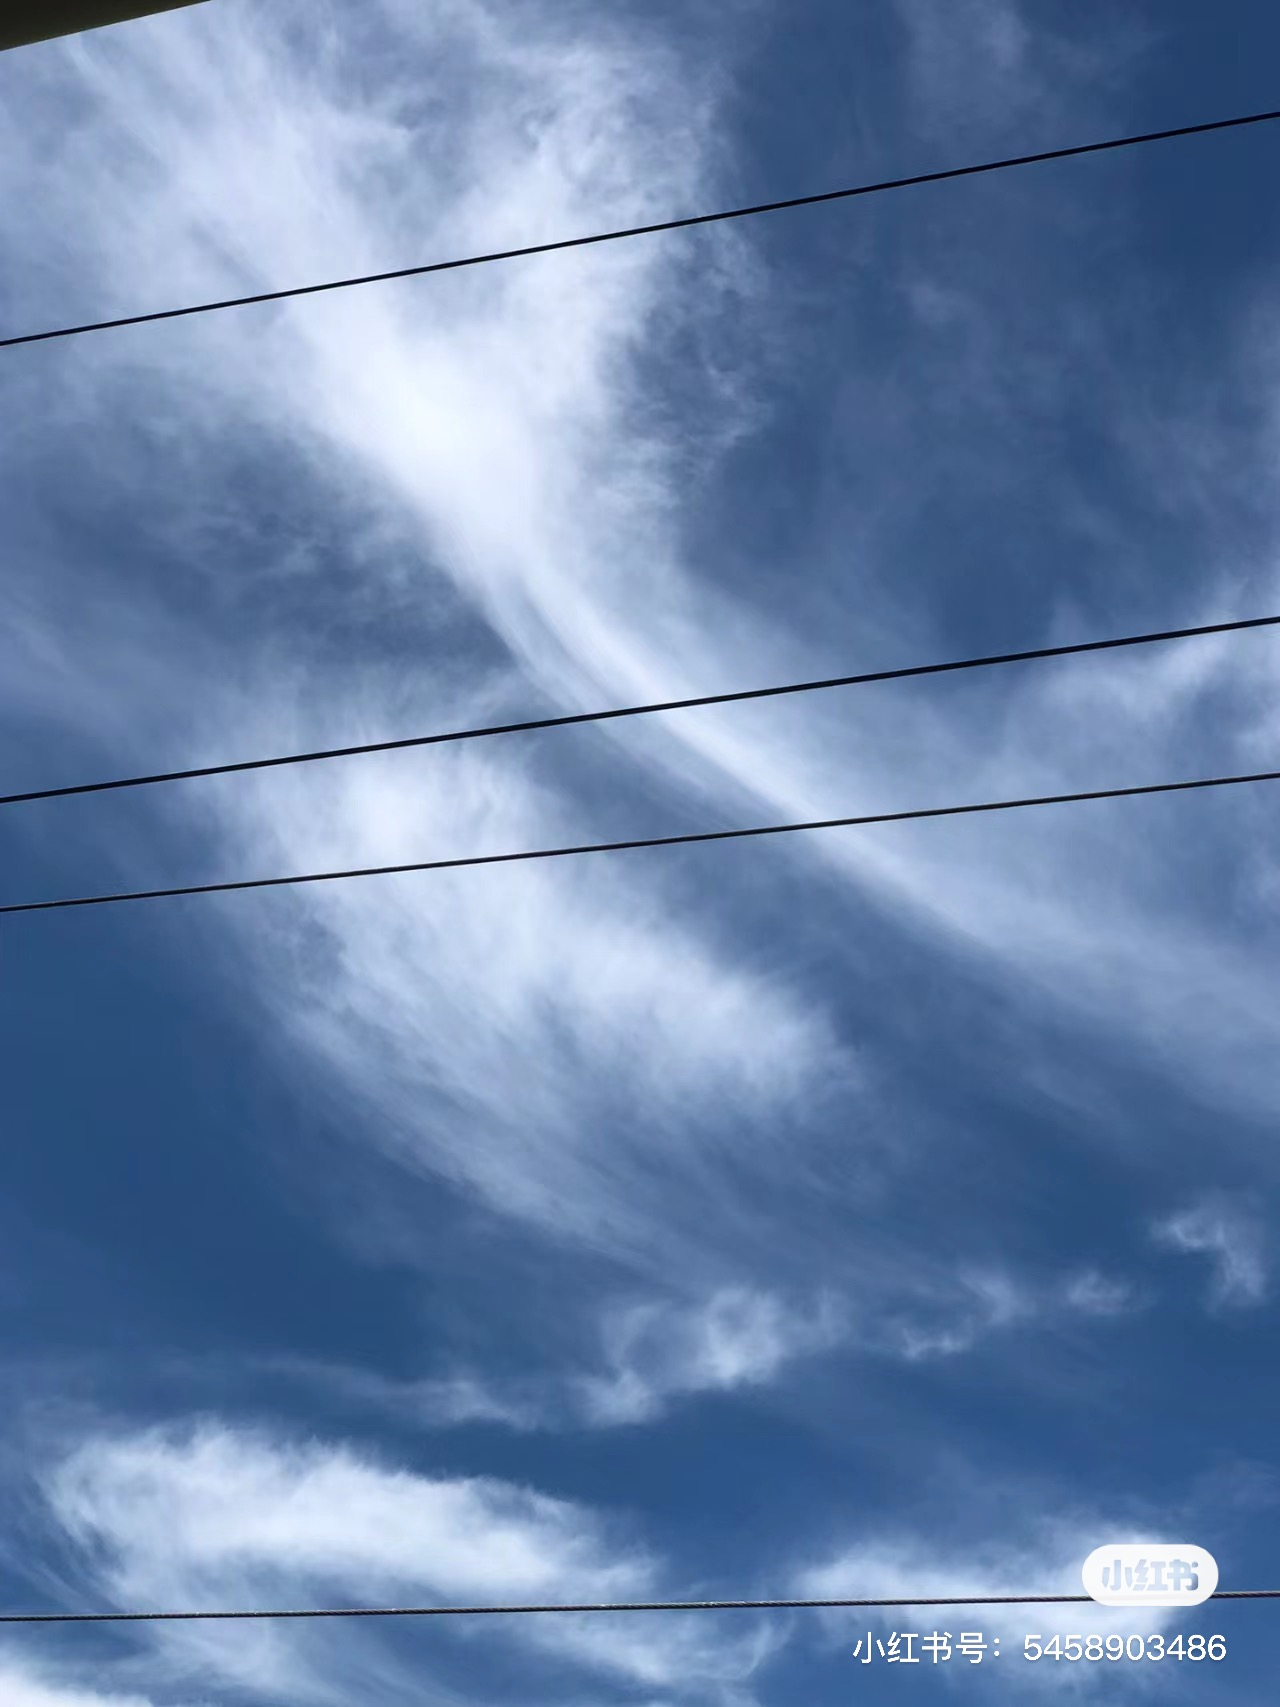Cirrus: (113, 28, 1265, 1027), (89, 591, 824, 1337), (81, 1399, 717, 1691)
